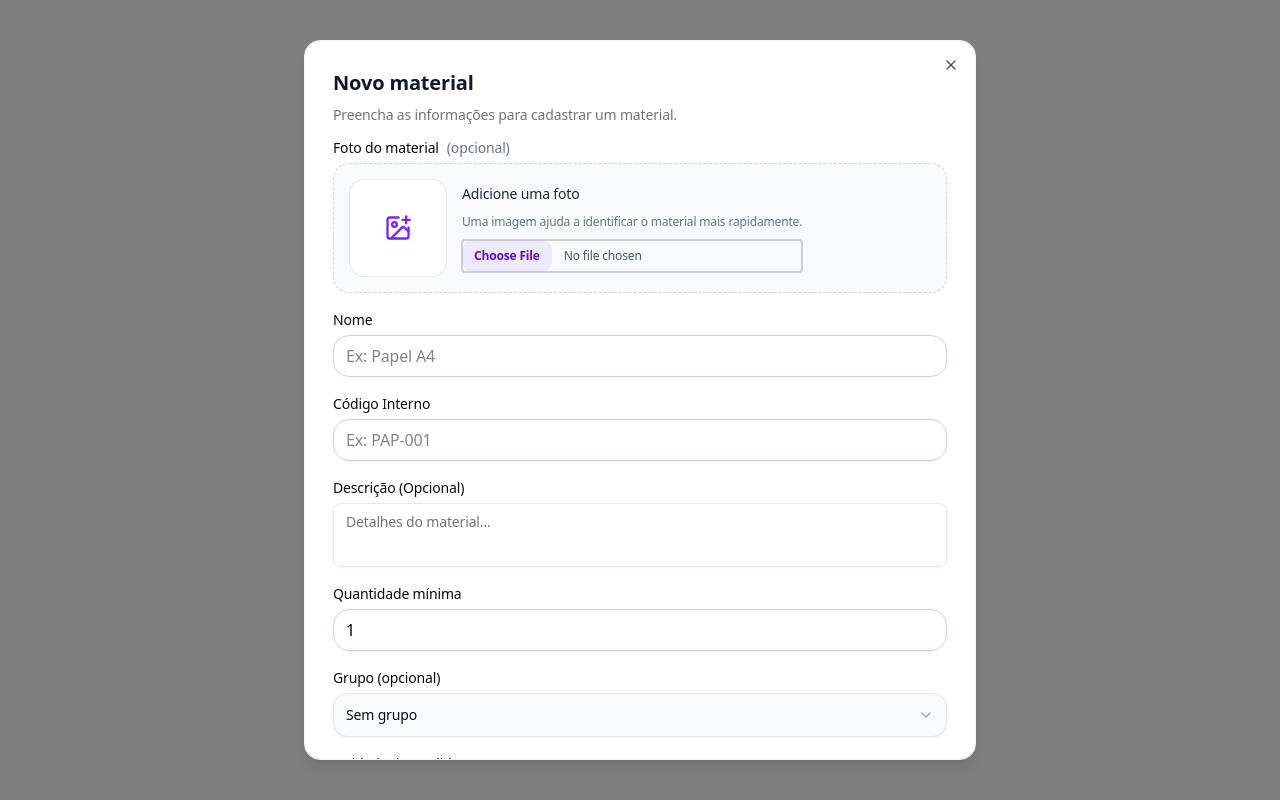
Test case: Busca de grupos e unidades no formulário de material › permite tentar novamente após falha e voltar para Sem grupo
The image size is (1280, 800).
Click the dropdown named "Grupo (opcional)": [382, 714] box [333,693,947,737]
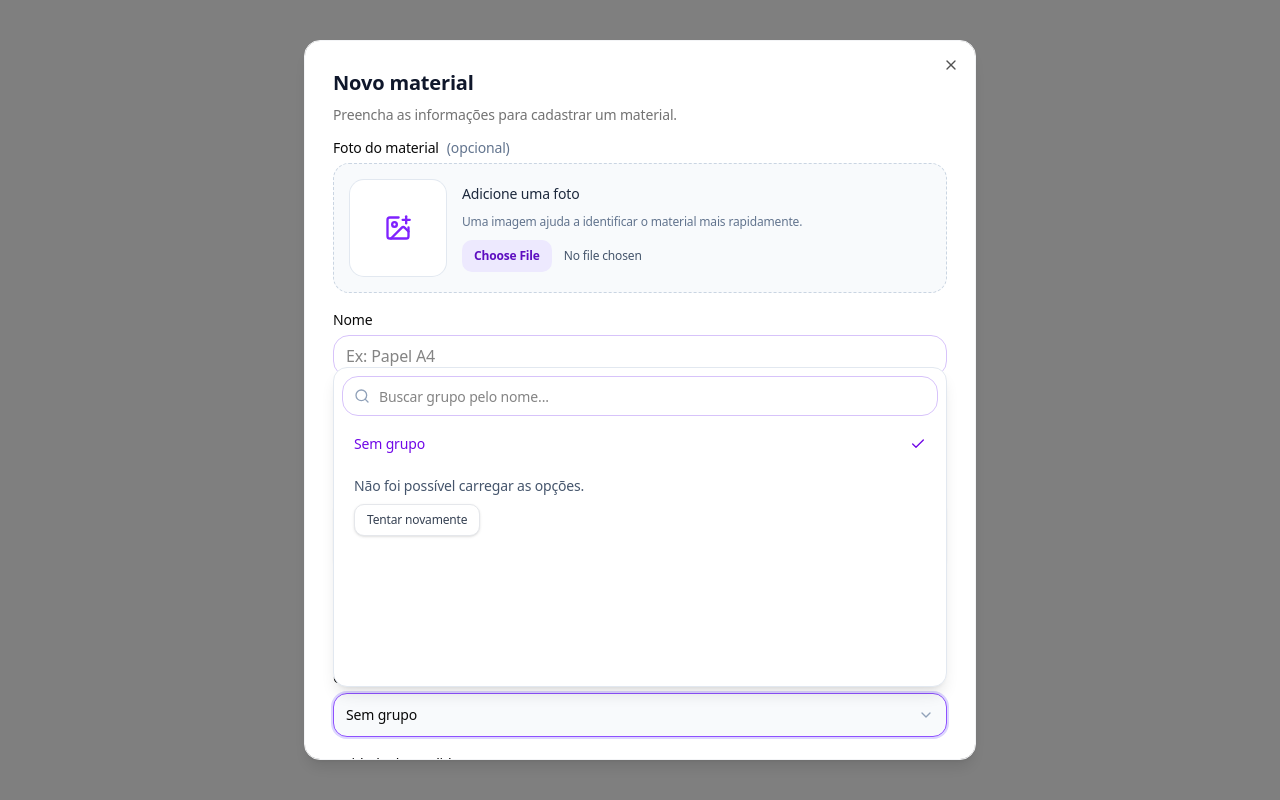
Result: the text "Não foi possível carregar as opções." is shown at [354,476,584,495]
Click the button "Tentar novamente": [417, 520] box [354,504,480,536]
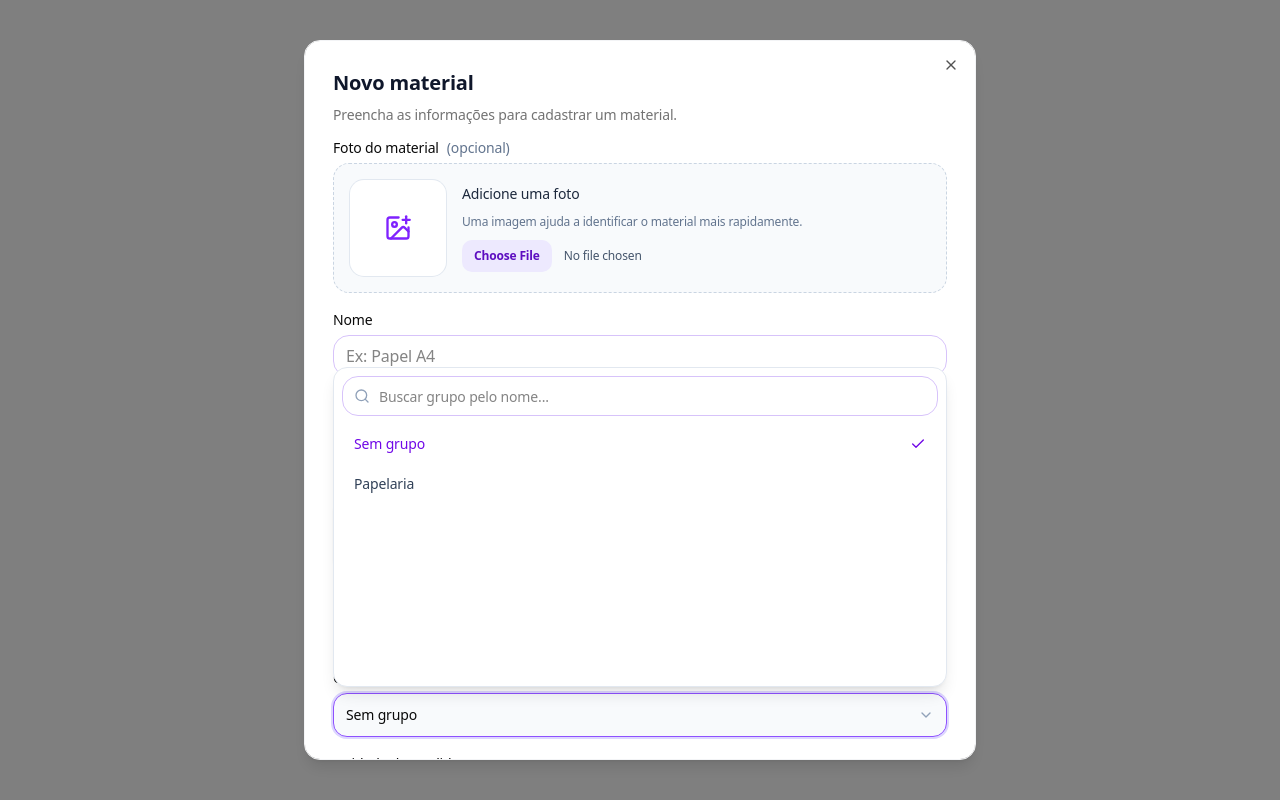
Click the option "Papelaria": [384, 484] box [342,464,938,504]
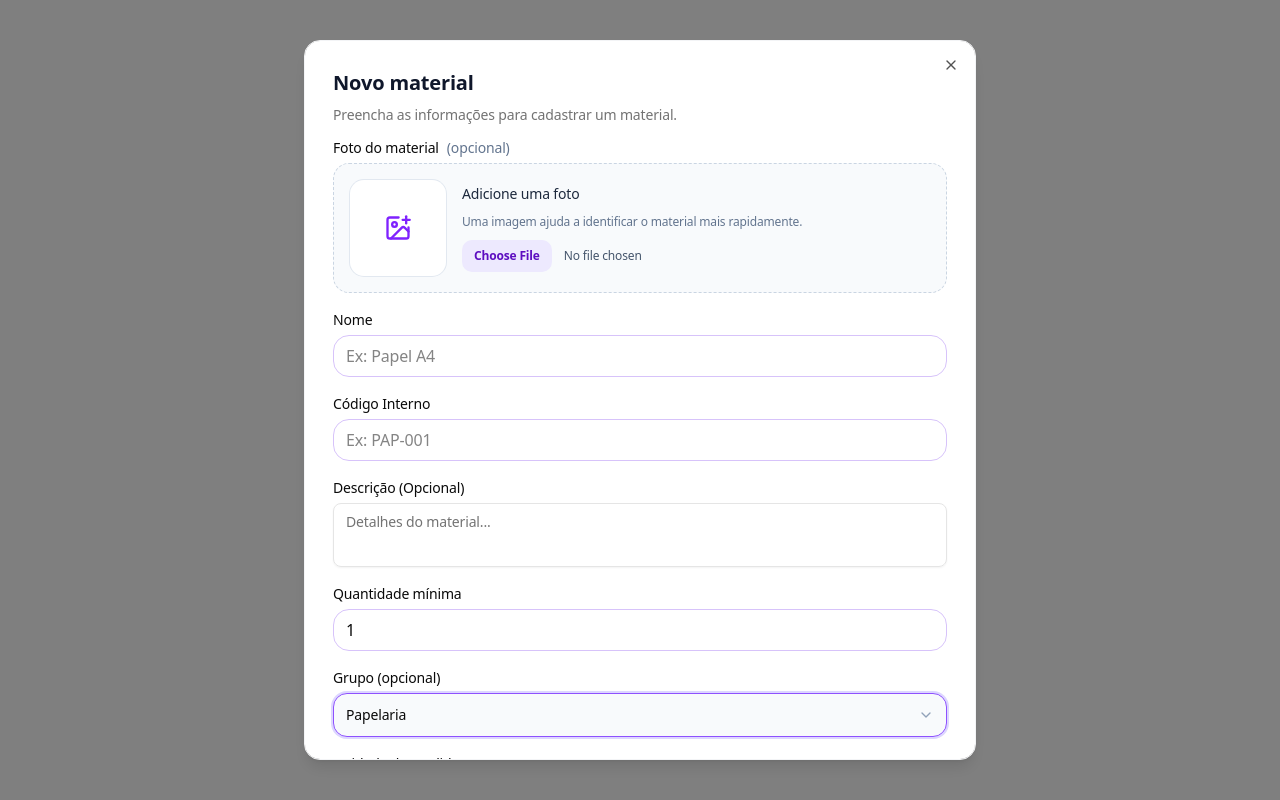
Click the dropdown named "Grupo (opcional)": [376, 714] box [333,693,947,737]
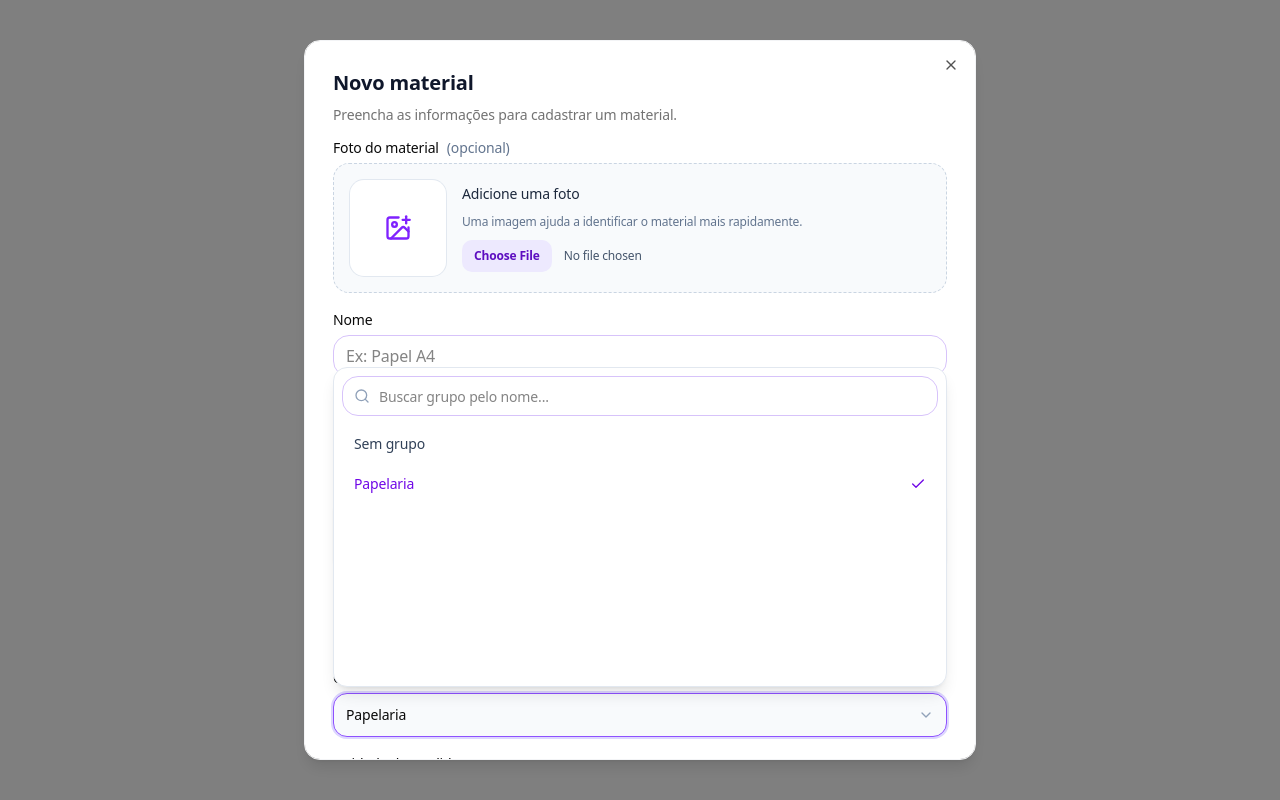
Click the option "Sem grupo": [390, 444] box [342,424,938,464]
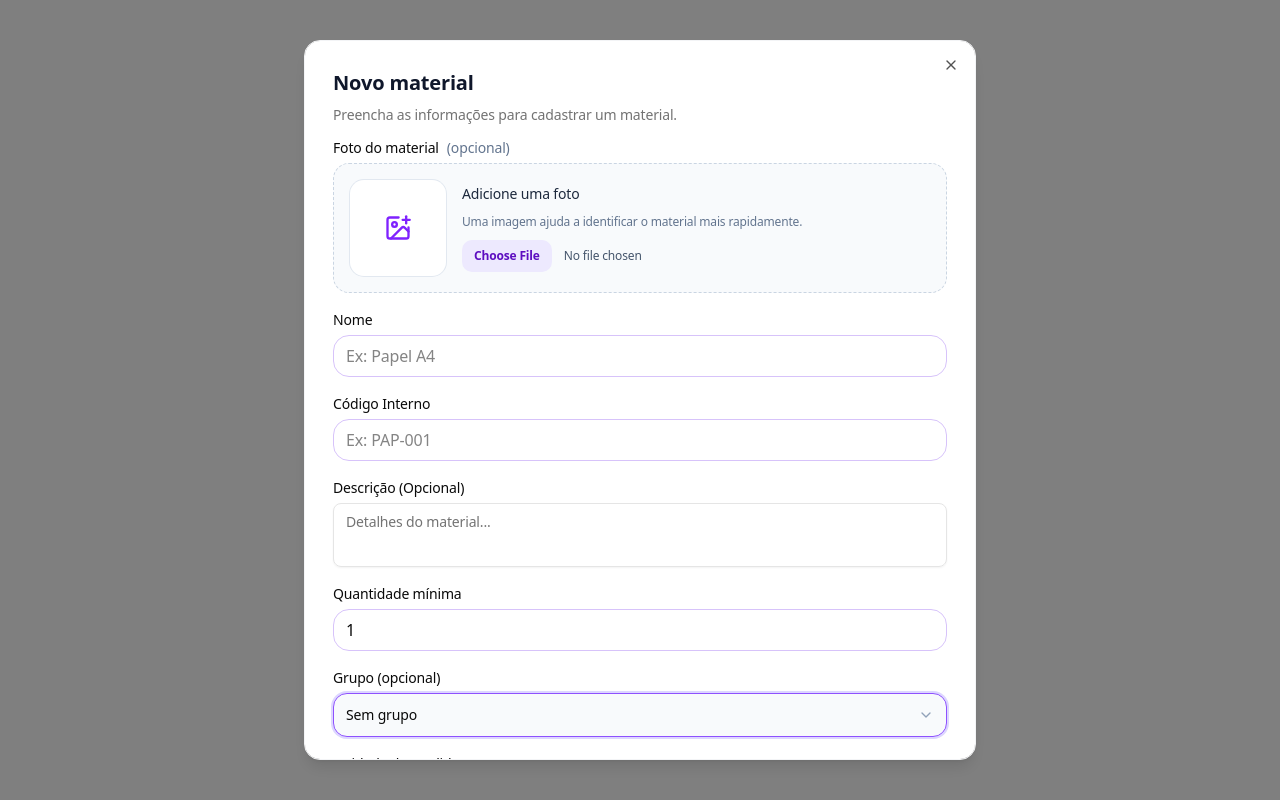
Result: the dropdown named "Grupo (opcional)" reads "Sem grupo" at [333,693,947,737]
